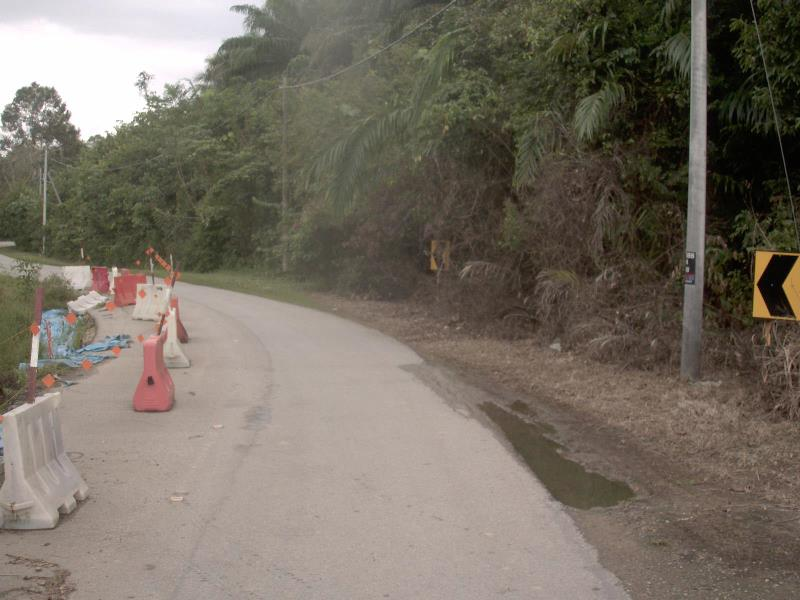traffic_sign: (743, 237, 800, 333)
